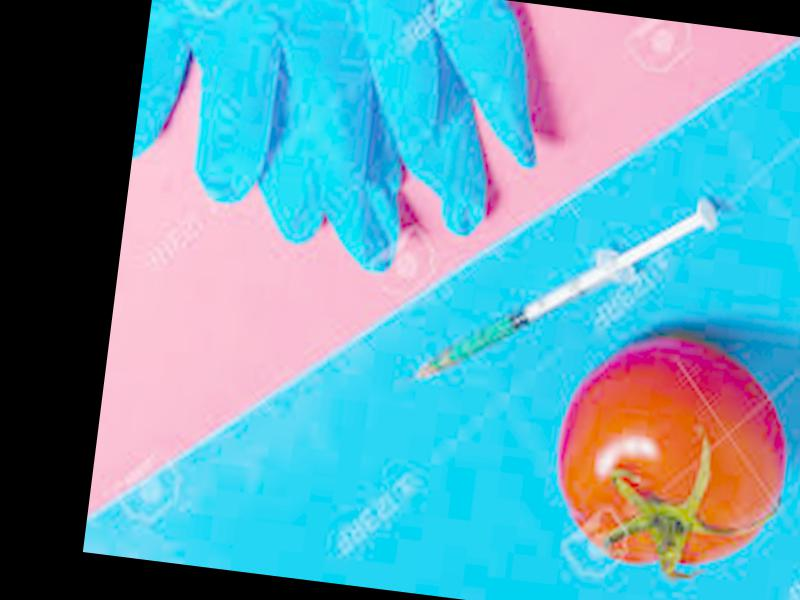Tomato: (545, 322, 796, 577)
